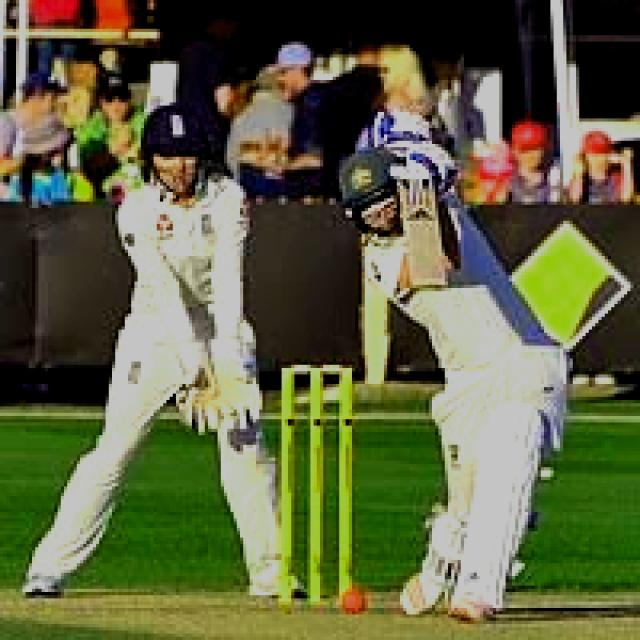toe: (404, 250, 458, 301)
